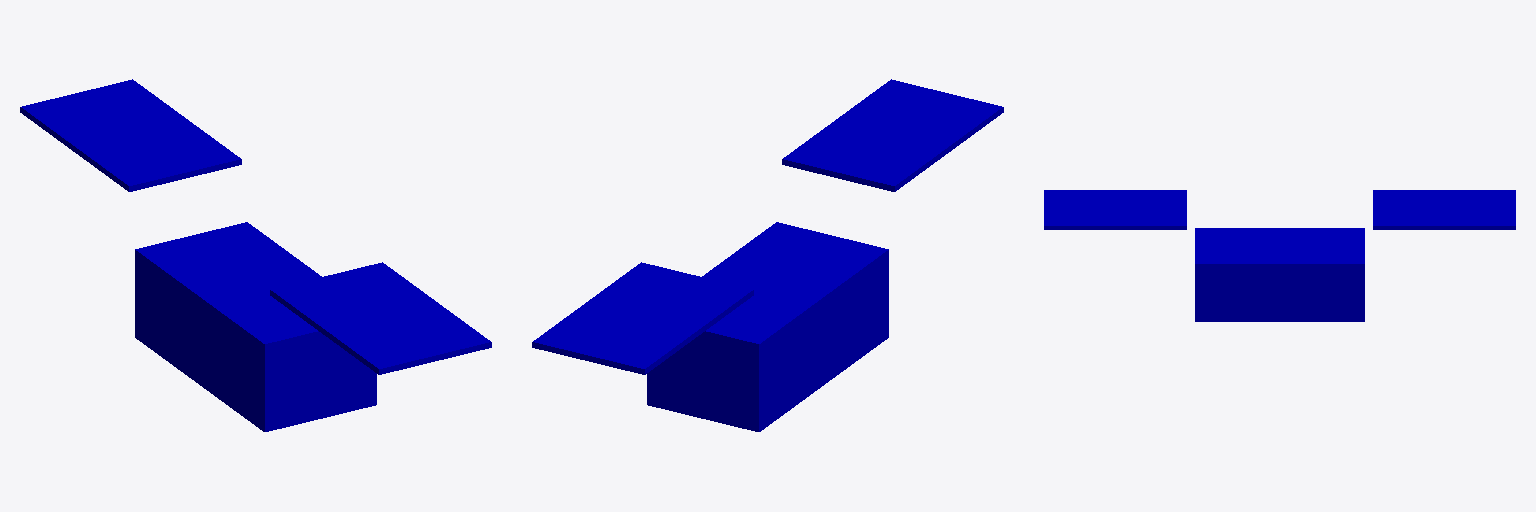
URDF robot description (rampa):
<?xml version="1.0"?>

<robot name="rampa">

    <material name="blue">
        <color rgba="0 0 0.8 1" />
    </material>

    <link name="body_rampa">

        <inertial>
            <origin xyz="5 0 0.1" />
            <mass value="100.0" />
            <inertia ixx="1.0" ixy="0.0" ixz="0.0"
            iyy="1.0" iyz="0.0" izz="1.0" />

        </inertial>
        <visual>        
            <origin xyz="5 0 0.1" />
            <geometry>
                <box size="2 4 1.5" />
            </geometry>
            <material name="blue"/>
        </visual>

        <collision>
            <origin xyz="5 0 0.1" />
            <geometry>
             <box size="2 4 1.5" />
            </geometry>
        </collision>

    </link>

    <link name="rampa_front">

        <inertial>
            <origin xyz="5 -4 0.1" />
            <mass value="100.0" />
            <inertia ixx="1.0" ixy="0.0" ixz="0.0"
            iyy="1.0" iyz="0.0" izz="1.0" />

        </inertial>
        <visual>        
            <origin xyz="5 -4 0.1" />
            <geometry>
                <box size="2 3.354101966 0.1" />
            </geometry>
            <material name="blue"/>
        </visual>

        <collision>
            <origin xyz="5 -4 0.1" />
            <geometry>
             <box size="2 3.354101966 0.1" />
            </geometry>
        </collision>
    </link>

    <link name="rampa_back">

        <inertial>
            <origin rpy="0 0 0" xyz="5 4 0.1" />
            <mass value="100.0" />
            <inertia ixx="1.0" ixy="0.0" ixz="0.0"
            iyy="0.0" iyz="1.0" izz="0.0" />

        </inertial>
        <visual>        
            <origin rpy="0 0 0" xyz="5 4 0.1" />
            <geometry>
                <box size="2 3.354101966 0.1" />
            </geometry>
            <material name="blue"/>
        </visual>

        <collision>
            <origin rpy="0 0 0" xyz="5 4 0.1" />
            <geometry>
             <box size="2 3.354101966 0.1" />
            </geometry>
        </collision>

    </link>

    <joint name="front_to_body" type="revolute">
        <parent link="body_rampa" />
        <child link="rampa_front" />
        <dynamics damping="0.0" friction="0.00001" />
        <origin xyz="0 0.15 1.7" />
        <axis xyz="1 0 0" />

        <limit lower="-2" upper="2" effort="10.0" velocity="0.5" />
    </joint>

    <joint name="back_to_body" type="revolute">
        <parent link="body_rampa" />
        <child link="rampa_back" />
        <dynamics damping="0.0" friction="0.00001" />
        <origin xyz="0 -0.15 1.7" />
        <axis xyz="1 0 0" />

        <limit lower="-2" upper="2" effort="10.0" velocity="0.5" />
    </joint>

</robot>

--- Render facts (derived) ---
The picture shows the robot from 3 angles, left to right: view 1: azimuth 30°, elevation 25°; view 2: azimuth 150°, elevation 25°; view 3: azimuth 270°, elevation 25°; orthographic projection.
Robot: rampa — 3 links, 2 joints (2 revolute); root link body_rampa; default pose: all joints at 0.
Visible links, largest first — view 1: body_rampa, rampa_front, rampa_back; view 2: body_rampa, rampa_front, rampa_back; view 3: body_rampa, rampa_front, rampa_back.
Link boxes in pixels (x1,y1,x2,y2): body_rampa: (135,222,376,431); rampa_front: (270,262,491,374); rampa_back: (20,79,241,191); body_rampa: (647,222,888,431); rampa_front: (782,79,1003,191); rampa_back: (532,262,753,374); body_rampa: (1195,228,1364,321); rampa_front: (1044,190,1186,229); rampa_back: (1373,190,1515,229).
Size in the robot's own frame: 2 by 11.05 by 2.5 metres.
Geometry: primitives only (box / cylinder / sphere), no mesh files.